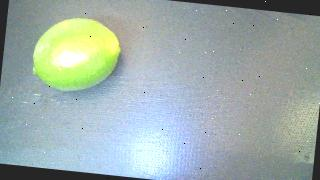EXPORTACION: (29, 14, 123, 97)
